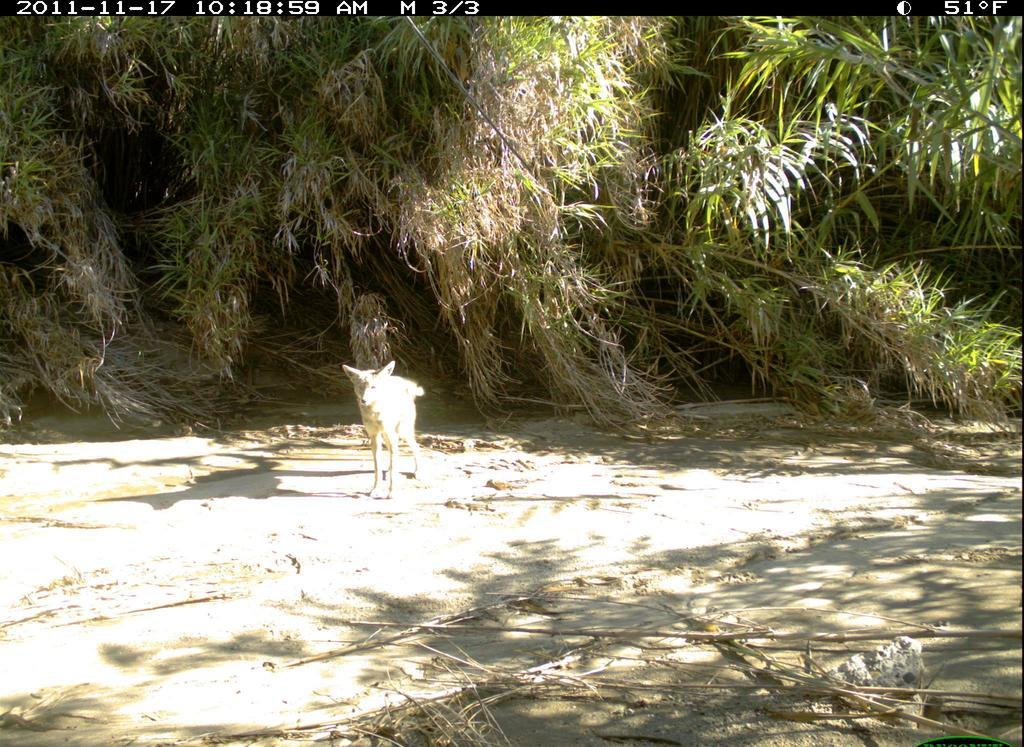coyote: (337, 356, 429, 504)
